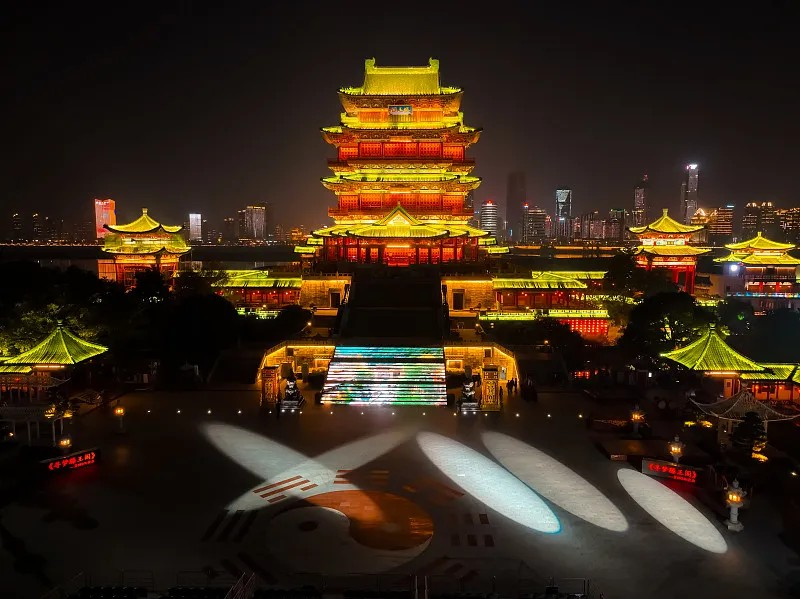Teng: (293, 55, 509, 266)
